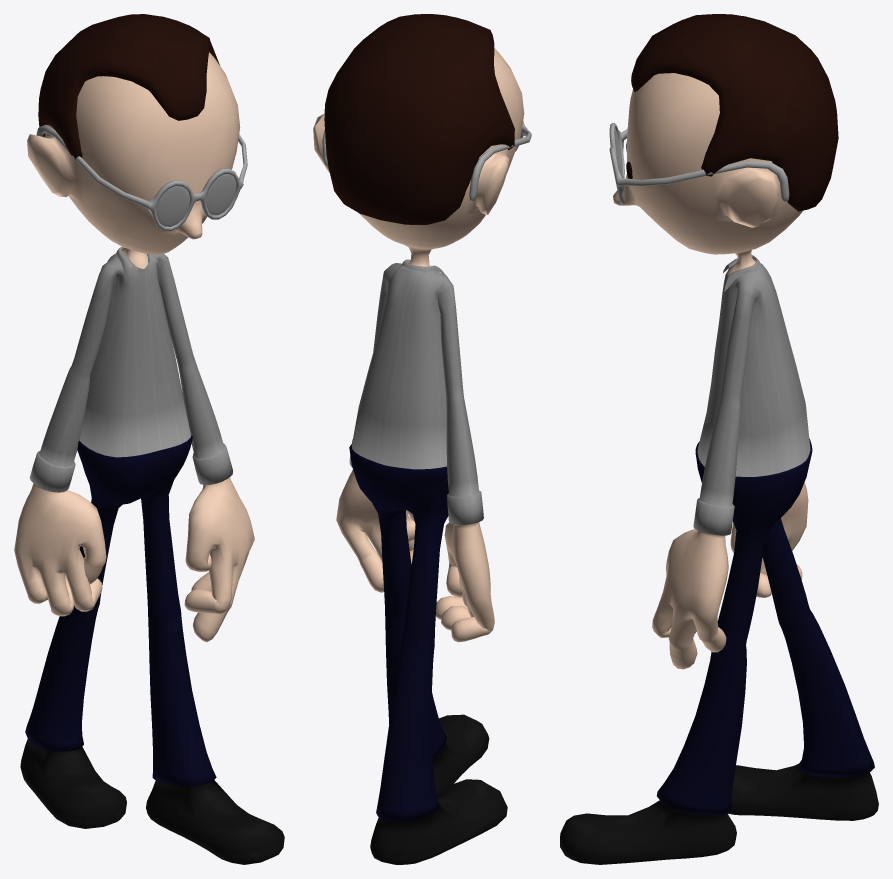
The model's file is Animation_Cartoon_Starter_000057.obj.
3 views of the same model, side by side, from view 1: azimuth 30°, elevation 25°; view 2: azimuth 150°, elevation 25°; view 3: azimuth 270°, elevation 25° (orthographic). The views are drawn at different scales.
Visible parts, largest first — view 1: bm_09; view 2: bm_09; view 3: bm_09.
Part boxes in pixels (left/top/right/bottom): bm_09: left=14, top=14, right=284, bottom=864; bm_09: left=313, top=14, right=531, bottom=864; bm_09: left=560, top=14, right=878, bottom=864.
Bounding box in the file's own units: 0.3902 × 1.51 × 0.5376.
Materials: 3 (1 with a texture image).
